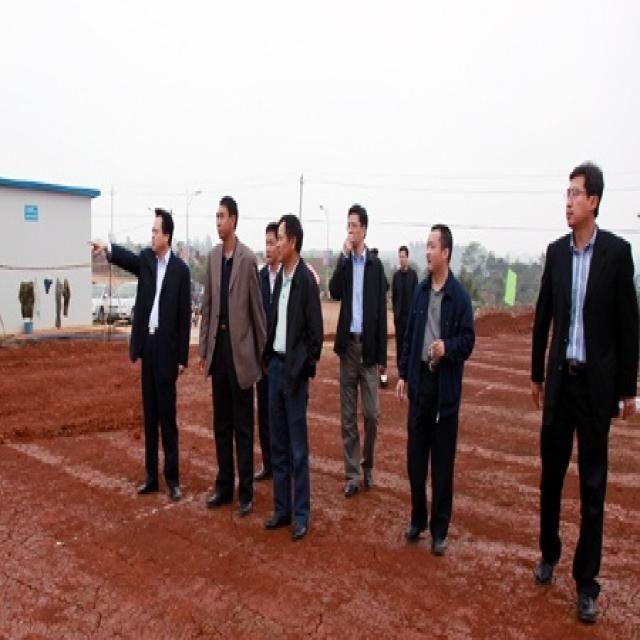Sin_Casco_Mascarrilla: (566, 161, 605, 228), (427, 222, 453, 274), (151, 206, 174, 254), (216, 194, 239, 240)
